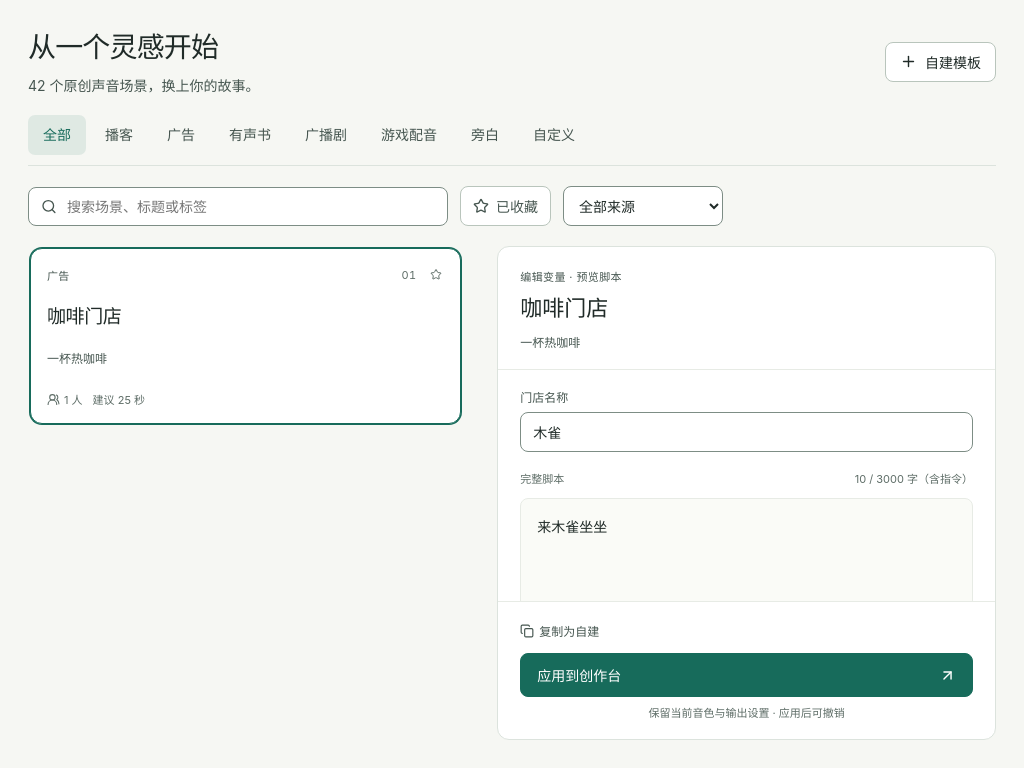
Test: 缺少必填变量时呈现服务端错误并禁用应用
Clear the field labelled "门店名称". click: (747, 432)
box: [520,412,973,452]
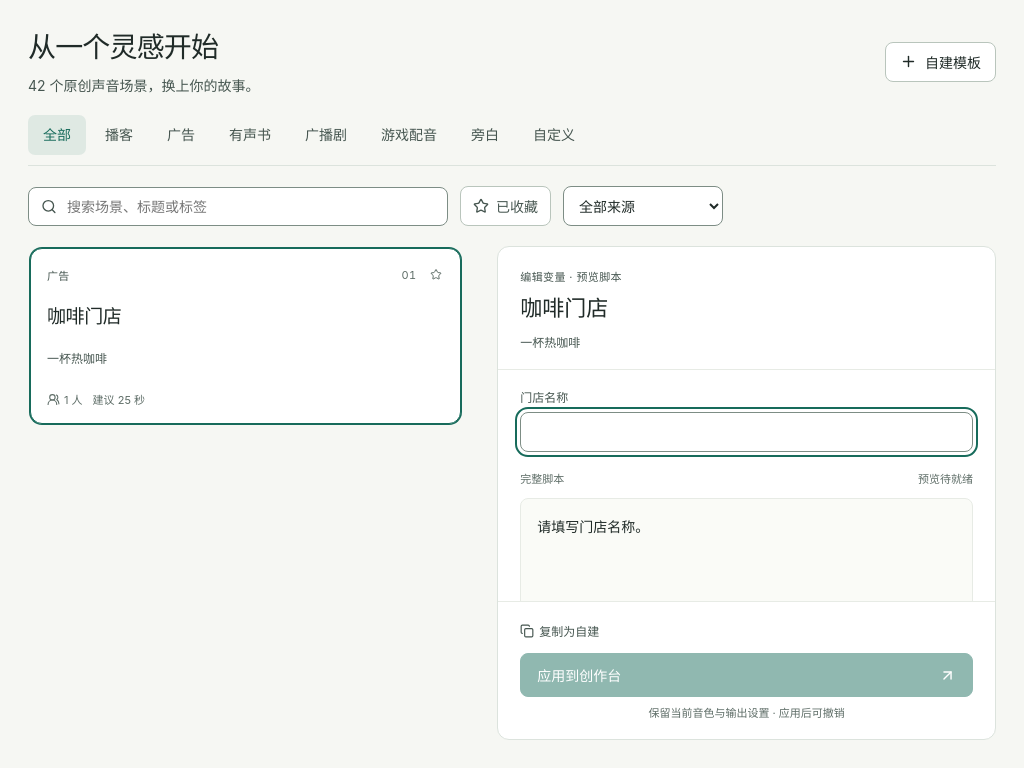
expect the message shows "请填写门店名称": met, box [537,520,649,535]
expect the button "应用到创作台" is disabled: met, box [520,653,973,697]
